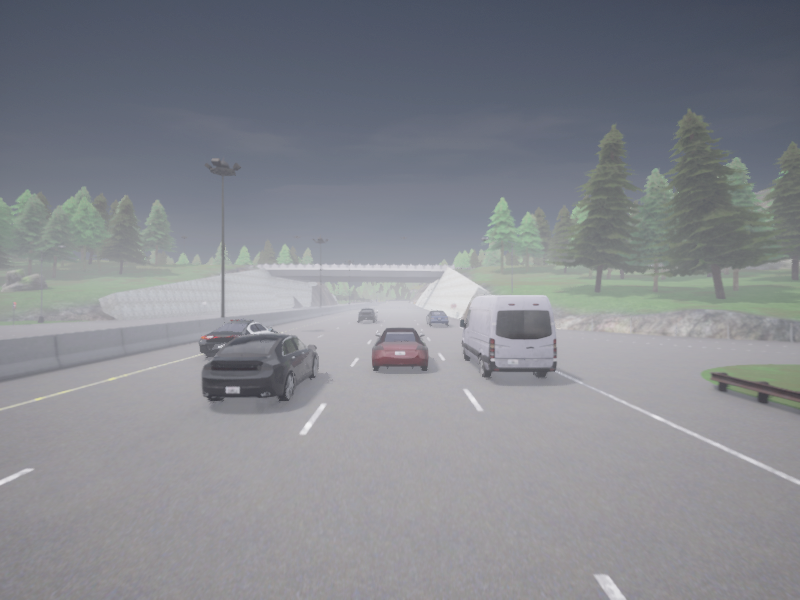vehicle: (201, 333, 317, 401), (460, 295, 556, 377), (198, 319, 276, 357), (372, 327, 427, 369), (426, 310, 448, 325), (358, 308, 377, 322)
